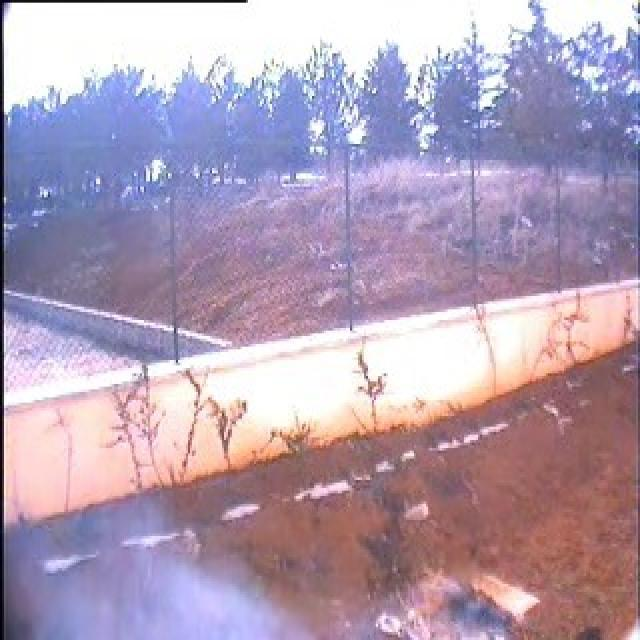Smoke: (18, 508, 287, 640)
